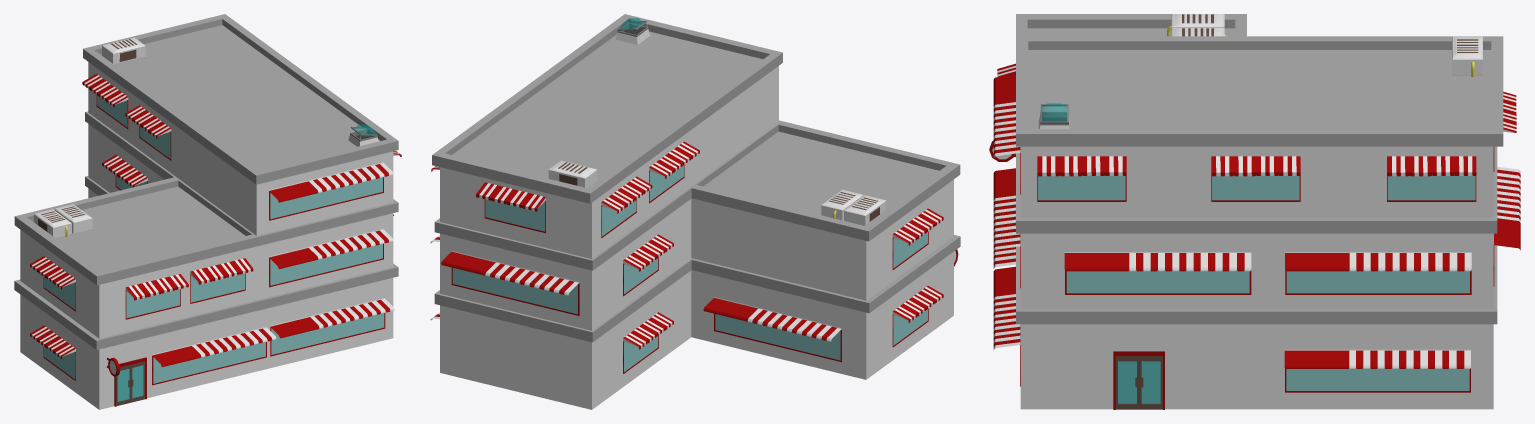
File: Building_3Story_Mod_2.fbx
3 views of the same model, side by side, from view 1: azimuth 30°, elevation 25°; view 2: azimuth 150°, elevation 25°; view 3: azimuth 270°, elevation 25° (orthographic). The views are drawn at different scales.
Visible parts, largest first — view 1: Building20, Roof25, Windows1, Roof, Aircon32, Aircon30, Aircon31, Door49, Door48, RoofLatch5; view 2: Building20, Roof25, Windows1, Roof, Aircon32, Aircon30, Aircon31, RoofLatch5; view 3: Building20, Roof25, Windows1, Roof, DoorLeft11, DoorRight13, Aircon32, Aircon30, RoofLatch5, Aircon31.
Boxes of the visible parts, x1,y1,x2,y2 form: Building20: [14, 62, 398, 409]; Roof25: [83, 14, 398, 184]; Windows1: [30, 74, 401, 385]; Roof: [14, 177, 267, 285]; Aircon32: [102, 37, 145, 64]; Aircon30: [34, 209, 71, 238]; Aircon31: [54, 204, 92, 233]; Door49: [130, 361, 145, 402]; Door48: [116, 364, 130, 406]; RoofLatch5: [348, 124, 378, 146]; Building20: [434, 66, 960, 409]; Roof25: [432, 14, 782, 203]; Windows1: [430, 141, 943, 373]; Roof: [690, 120, 960, 241]; Aircon32: [548, 160, 597, 187]; Aircon30: [844, 195, 886, 225]; Aircon31: [821, 189, 863, 220]; RoofLatch5: [615, 18, 649, 44]; Building20: [1016, 146, 1497, 409]; Roof25: [1016, 36, 1503, 146]; Windows1: [993, 63, 1520, 392]; Roof: [1016, 14, 1246, 36]; DoorLeft11: [1115, 356, 1139, 409]; DoorRight13: [1139, 356, 1162, 409]; Aircon32: [1452, 36, 1482, 77]; Aircon30: [1167, 14, 1224, 36]; RoofLatch5: [1038, 103, 1070, 128]; Aircon31: [1171, 28, 1226, 36].
Bounding box in the file's own units: 18.95 × 11.59 × 19.09.
